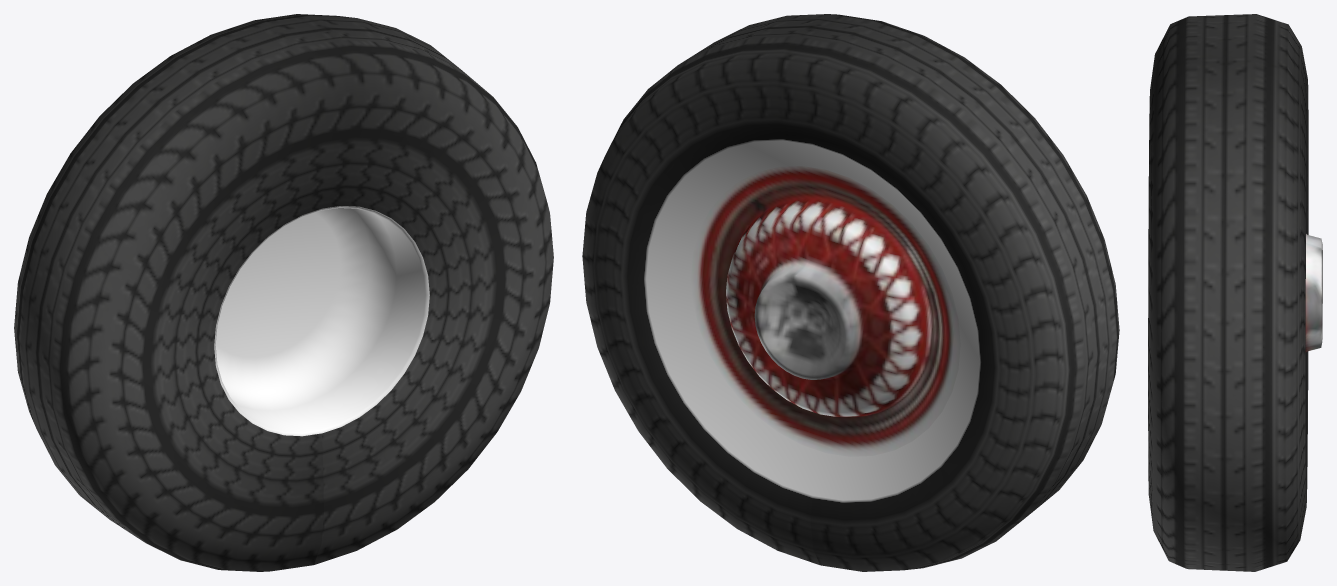
File: llantader.obj
3 renders of one model, left to right at view 1: azimuth 30°, elevation 25°; view 2: azimuth 150°, elevation 25°; view 3: azimuth 270°, elevation 25°, orthographic. The views are drawn at different scales.
Parts seen in each view (by area): view 1: LowTire_Tire; view 2: LowTire_Tire; view 3: LowTire_Tire.
Part boxes in pixels (x1=…): LowTire_Tire: x1=14, y1=14, x2=553, y2=571; LowTire_Tire: x1=582, y1=14, x2=1119, y2=571; LowTire_Tire: x1=1148, y1=14, x2=1322, y2=571.
Size of the model in its own units: 0.6829 by 0.6829 by 0.2133.
